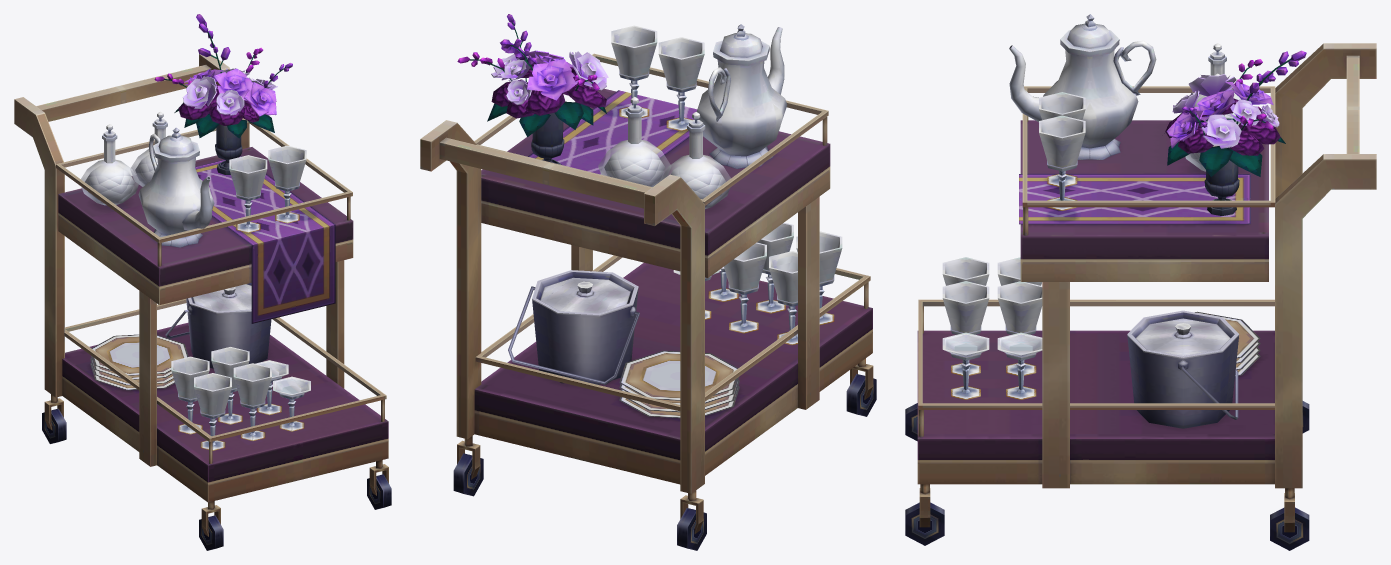
File: my_gehennaparty_01_cart_01.glb
3 views of the same model, side by side, from view 1: azimuth 30°, elevation 25°; view 2: azimuth 150°, elevation 25°; view 3: azimuth 270°, elevation 25° (orthographic). The views are drawn at different scales.
Visible parts, largest first — view 1: my_gehennaparty_01_cart_01; view 2: my_gehennaparty_01_cart_01; view 3: my_gehennaparty_01_cart_01.
Part boxes in pixels (x1,y1,x2,y2): my_gehennaparty_01_cart_01: (14, 14, 391, 550); my_gehennaparty_01_cart_01: (420, 14, 876, 550); my_gehennaparty_01_cart_01: (905, 14, 1376, 550).
Bounding box in the file's own units: 0.00369 × 0.00658 × 0.00589.
2 materials, 2 textured.
